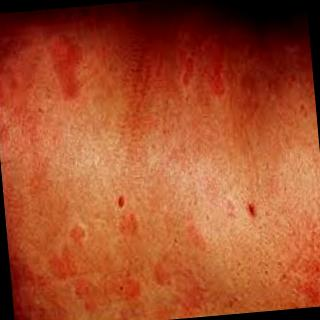urticaria: (16, 39, 320, 320)
